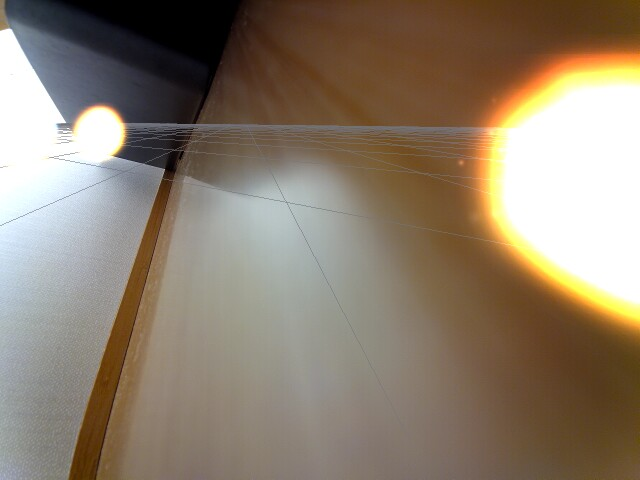firebig: (469, 43, 640, 340)
